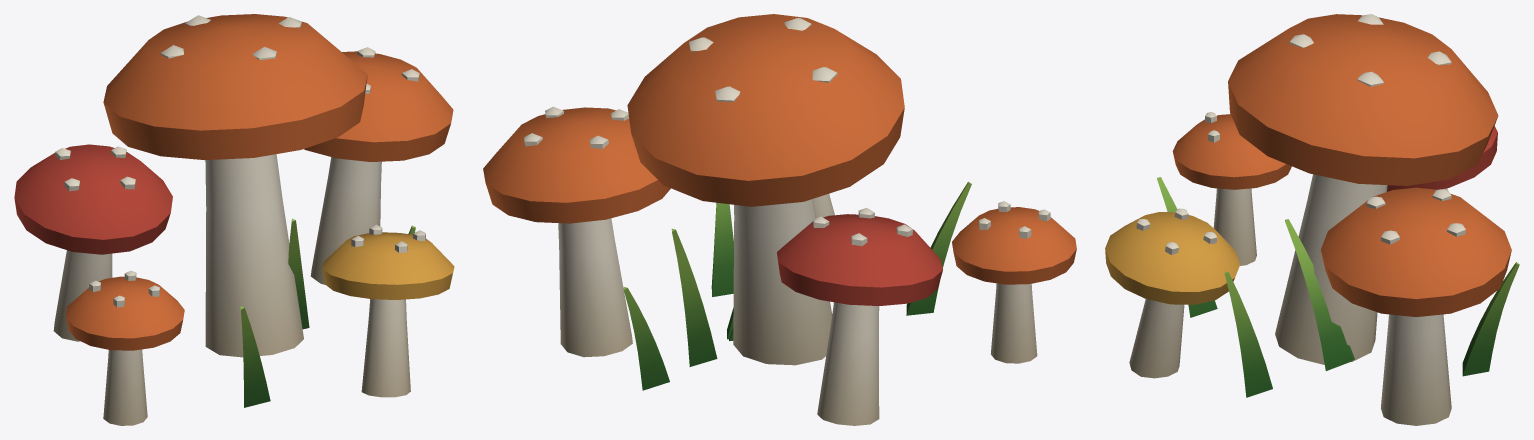
The model's file is MushroomCluster.fbx.
3 renders of one model, left to right at view 1: azimuth 30°, elevation 25°; view 2: azimuth 150°, elevation 25°; view 3: azimuth 270°, elevation 25°, orthographic. The views are drawn at different scales.
Parts seen in each view (by area): view 1: MushroomCluster; view 2: MushroomCluster; view 3: MushroomCluster.
Boxes of the visible parts, left/top/right/bottom form: MushroomCluster: left=14, top=14, right=454, bottom=425; MushroomCluster: left=483, top=14, right=1076, bottom=425; MushroomCluster: left=1105, top=14, right=1519, bottom=425.
Bounding box in the file's own units: 0.4748 × 0.2999 × 0.3645.
